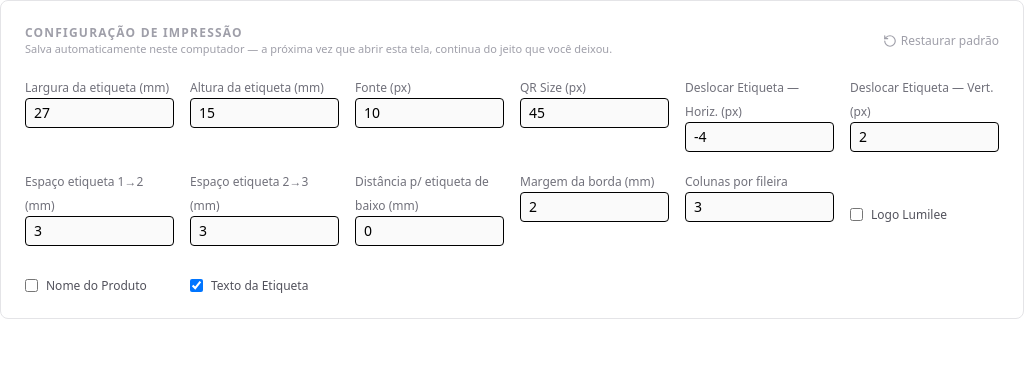
LabelPrintConfigPanel › avisa quando marca/nome do produto estão ligados na etiqueta pequena, e some ao desmarcar
The width and height of the screenshot is (1024, 382).
Expected: the text "é pequena — logo e/ou nome do produto" is not shown
Click the checkbox labelled "Nome do Produto" at point(32, 286), box [25,279,38,292]
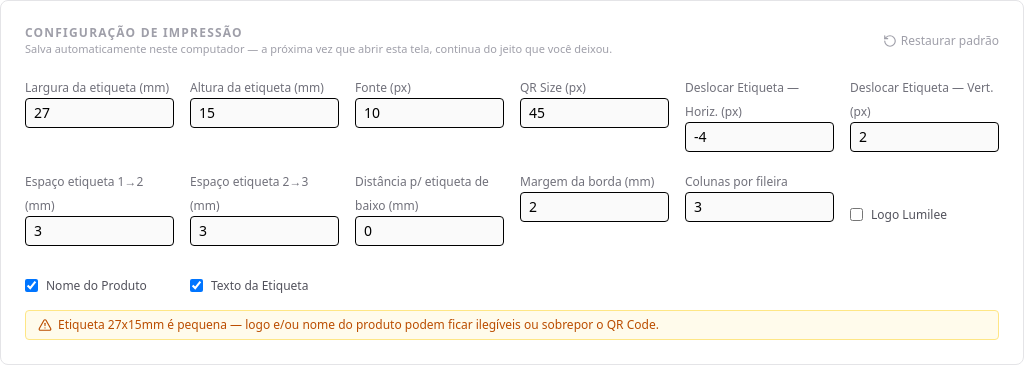
Expected: the text "é pequena — logo e/ou nome do produto" is shown, [142,316,659,332]
Click the checkbox labelled "Nome do Produto" at point(32, 286), box [25,279,38,292]
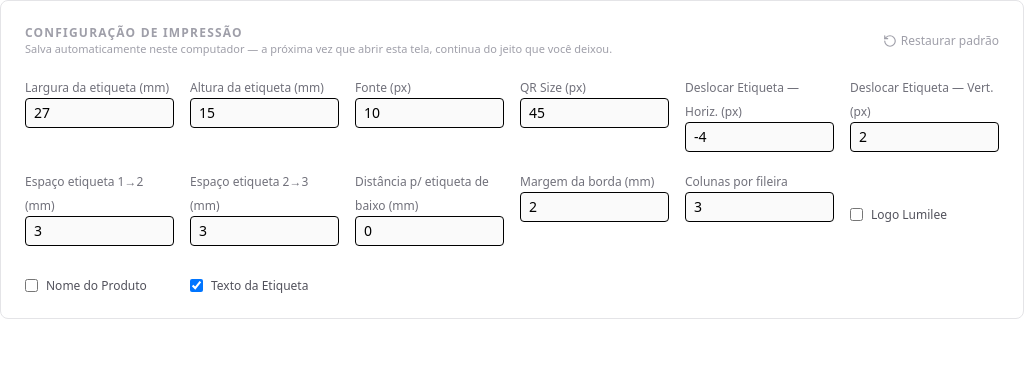
Expected: the text "é pequena — logo e/ou nome do produto" is gone
